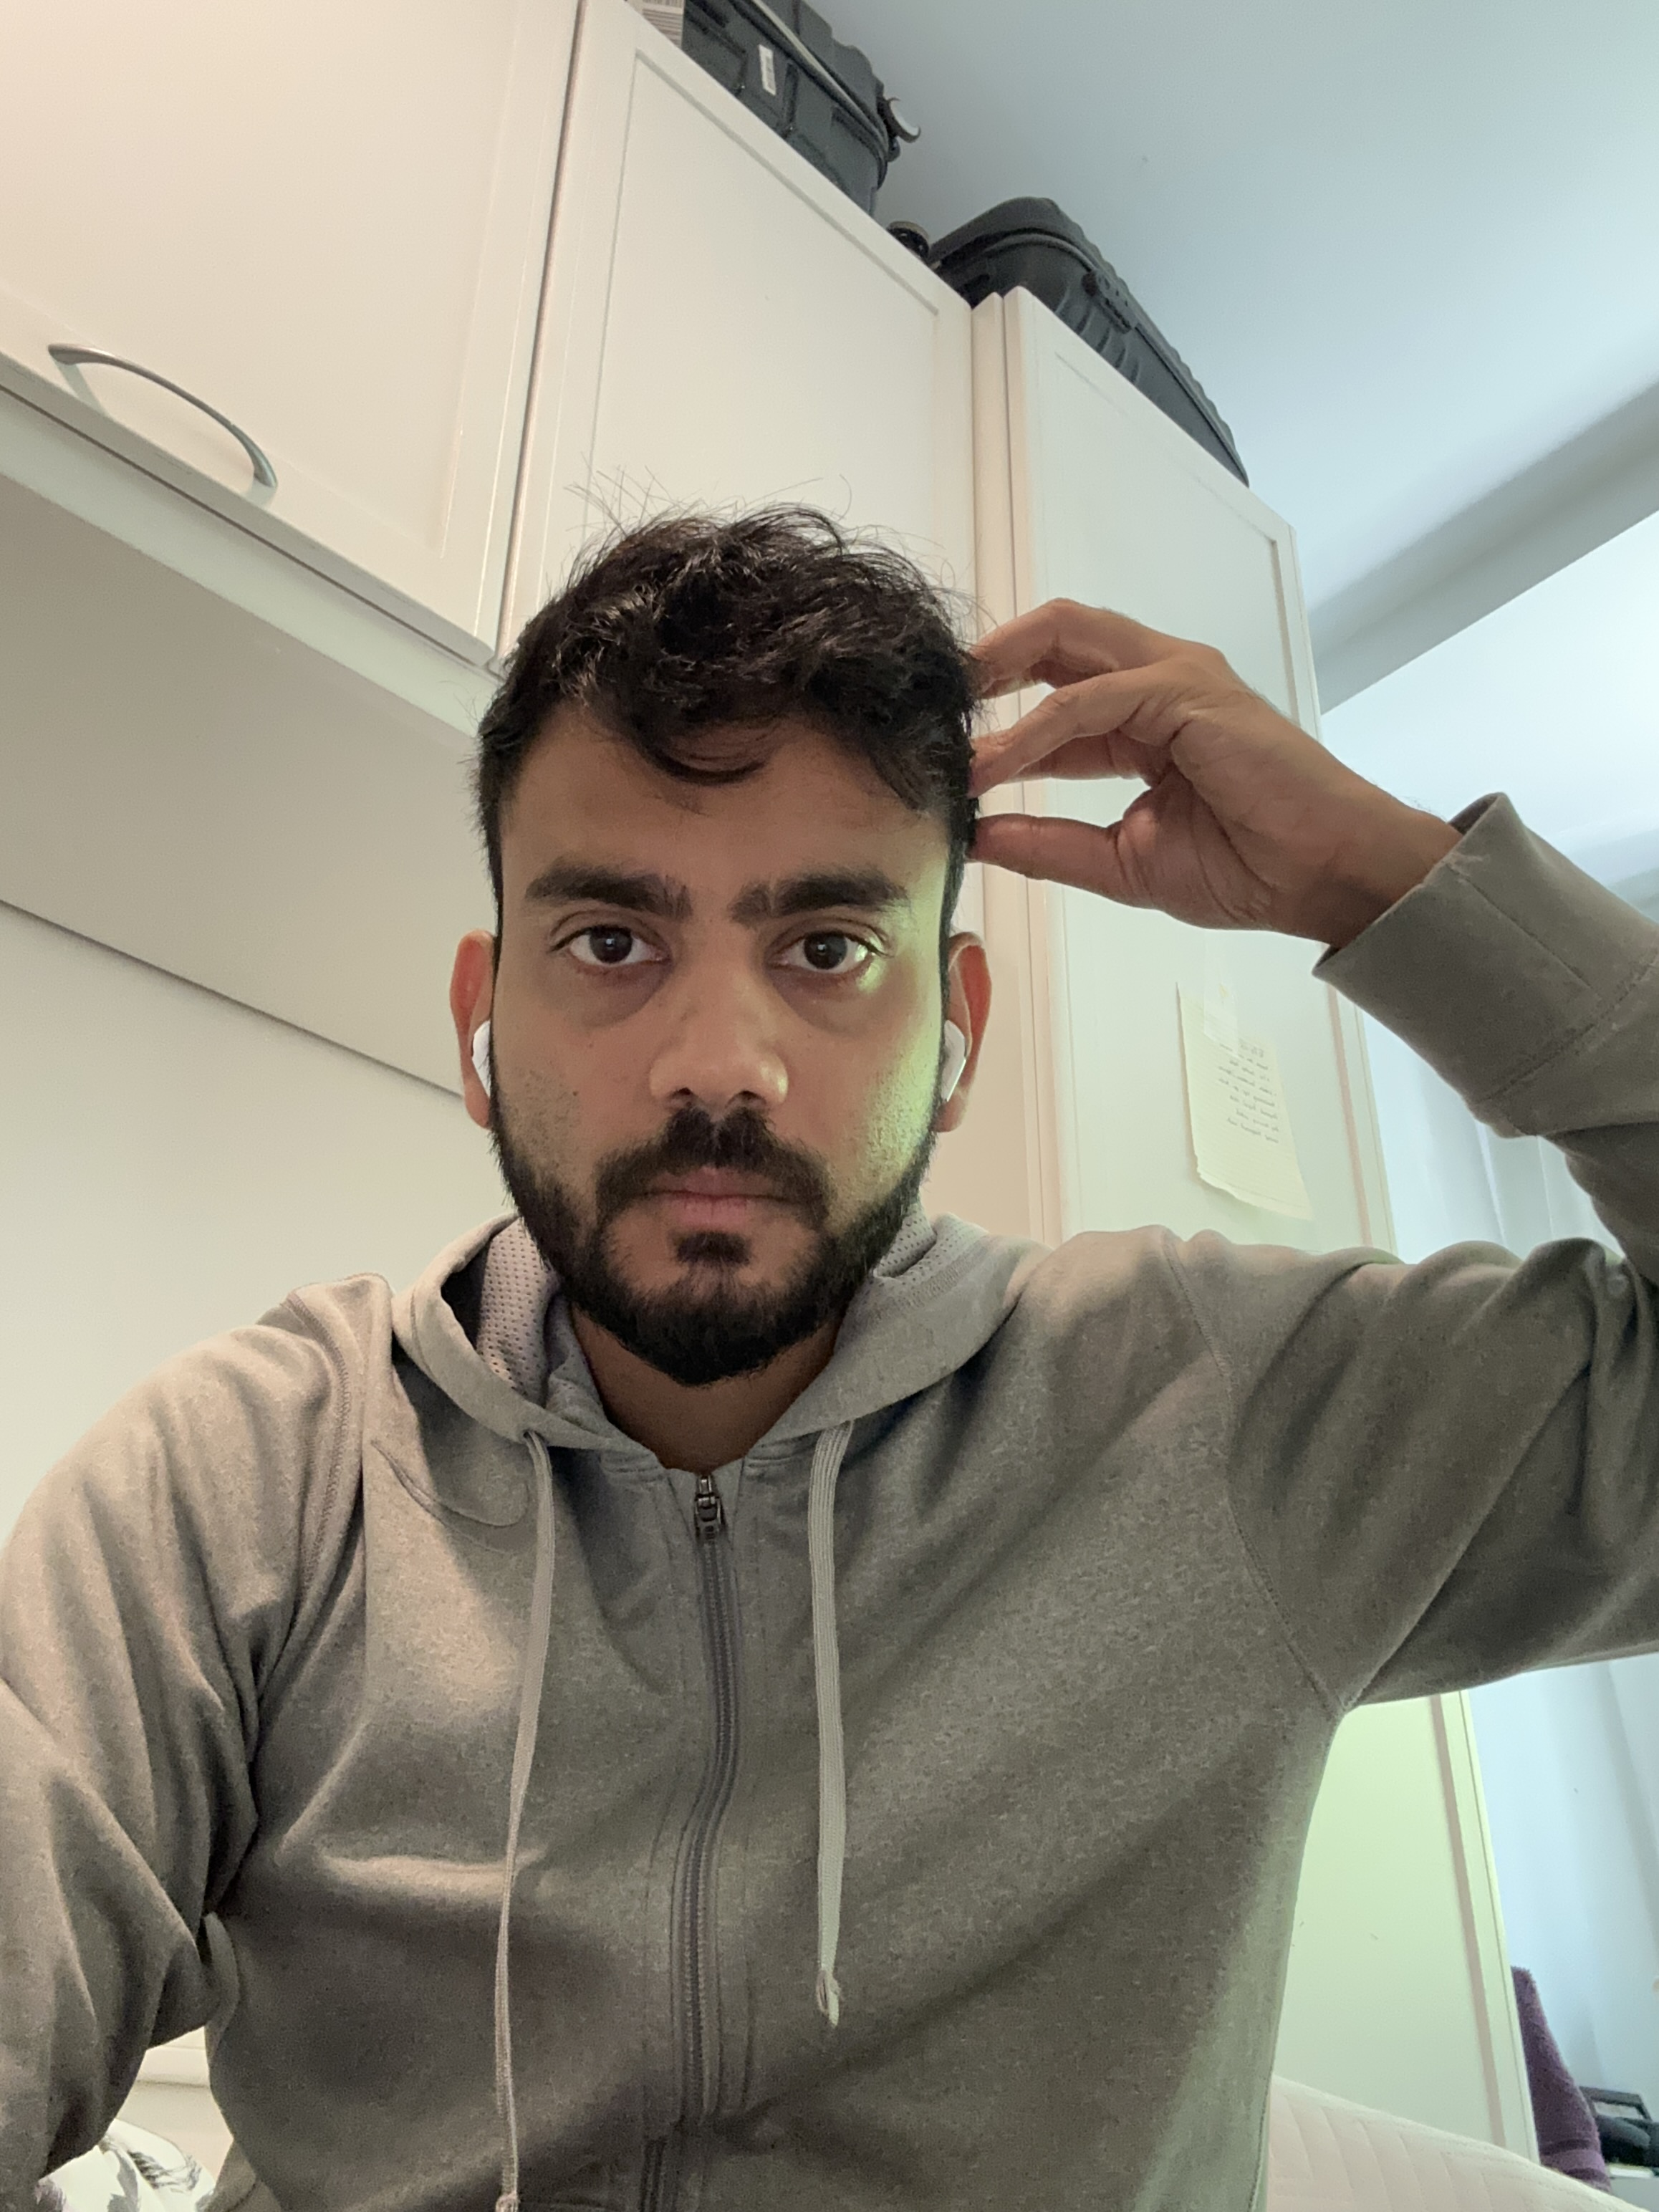brain: (5, 486, 1654, 2203), (458, 491, 997, 1392)
